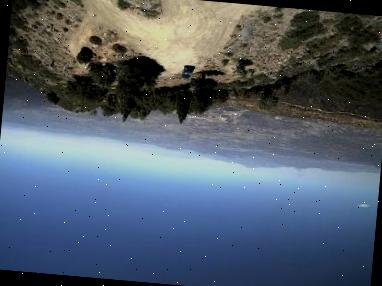smoke: (287, 159, 307, 179)
